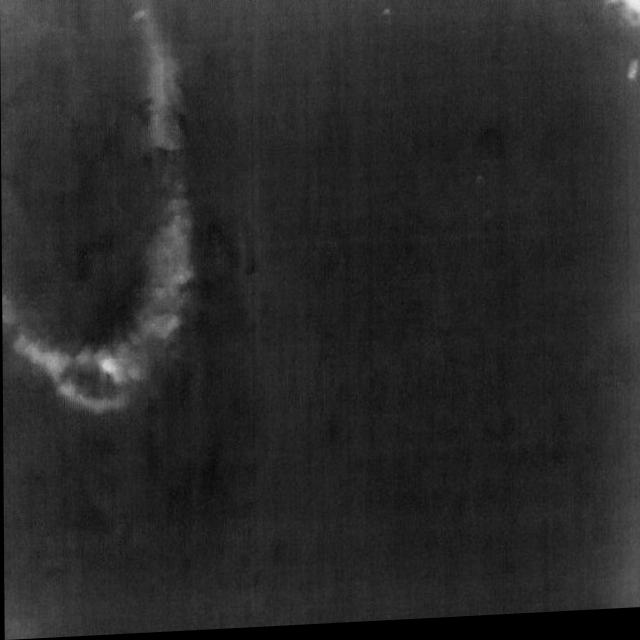deer: (626, 65, 640, 89)
